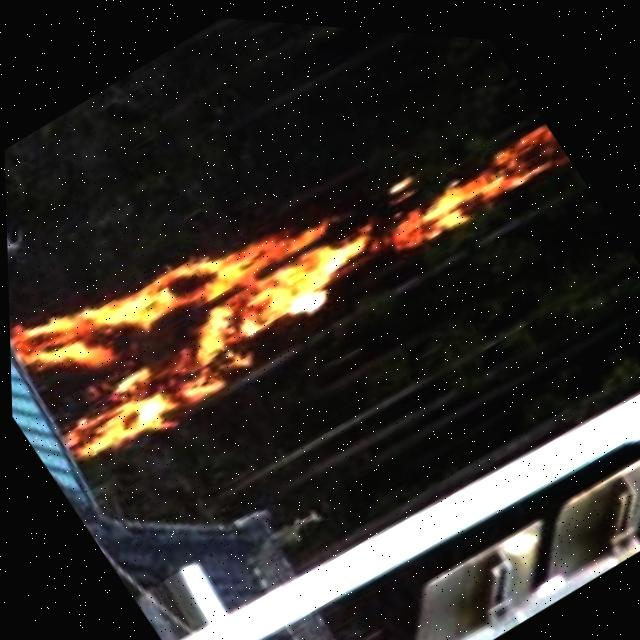Fire: (0, 2, 596, 521)
